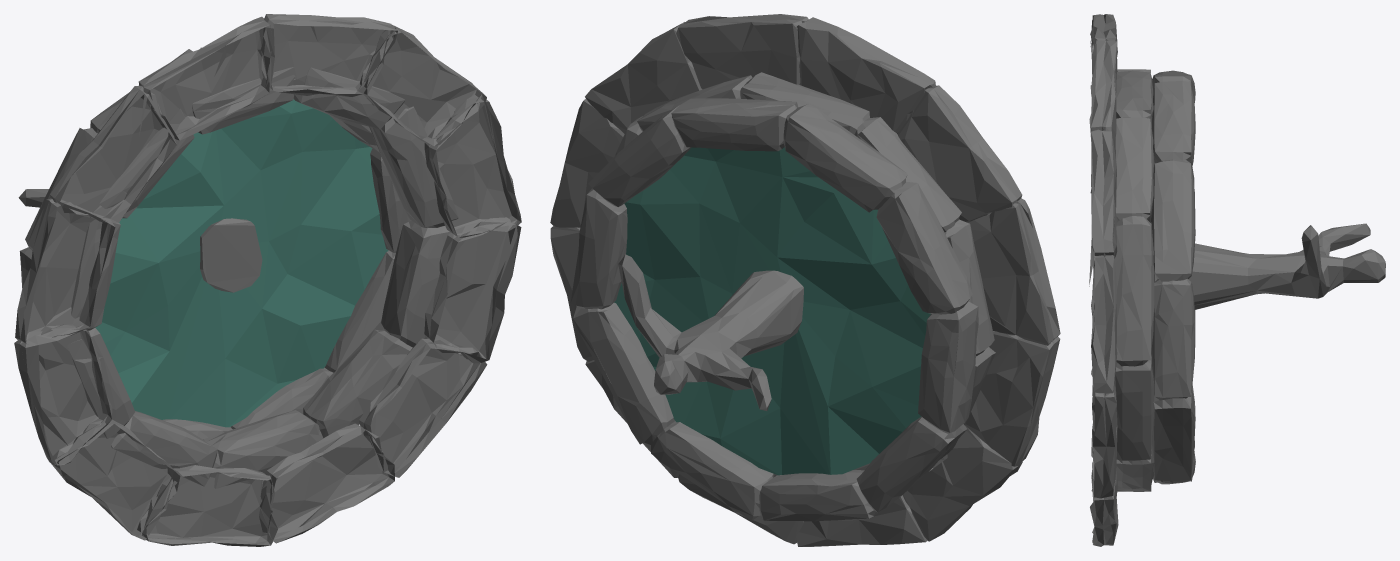
Rendered from fountain.FBX.
3 views of the same model, side by side, from view 1: azimuth 30°, elevation 25°; view 2: azimuth 150°, elevation 25°; view 3: azimuth 270°, elevation 25° (orthographic). The views are drawn at different scales.
Visible parts, largest first — view 1: fountain; view 2: fountain; view 3: fountain.
Boxes of the visible parts, box(x1,y1,x2,y2) form: fountain: box(14, 14, 521, 546); fountain: box(550, 14, 1060, 546); fountain: box(1089, 14, 1385, 546).
Bounding box in the file's own units: 276 × 275 × 153.
